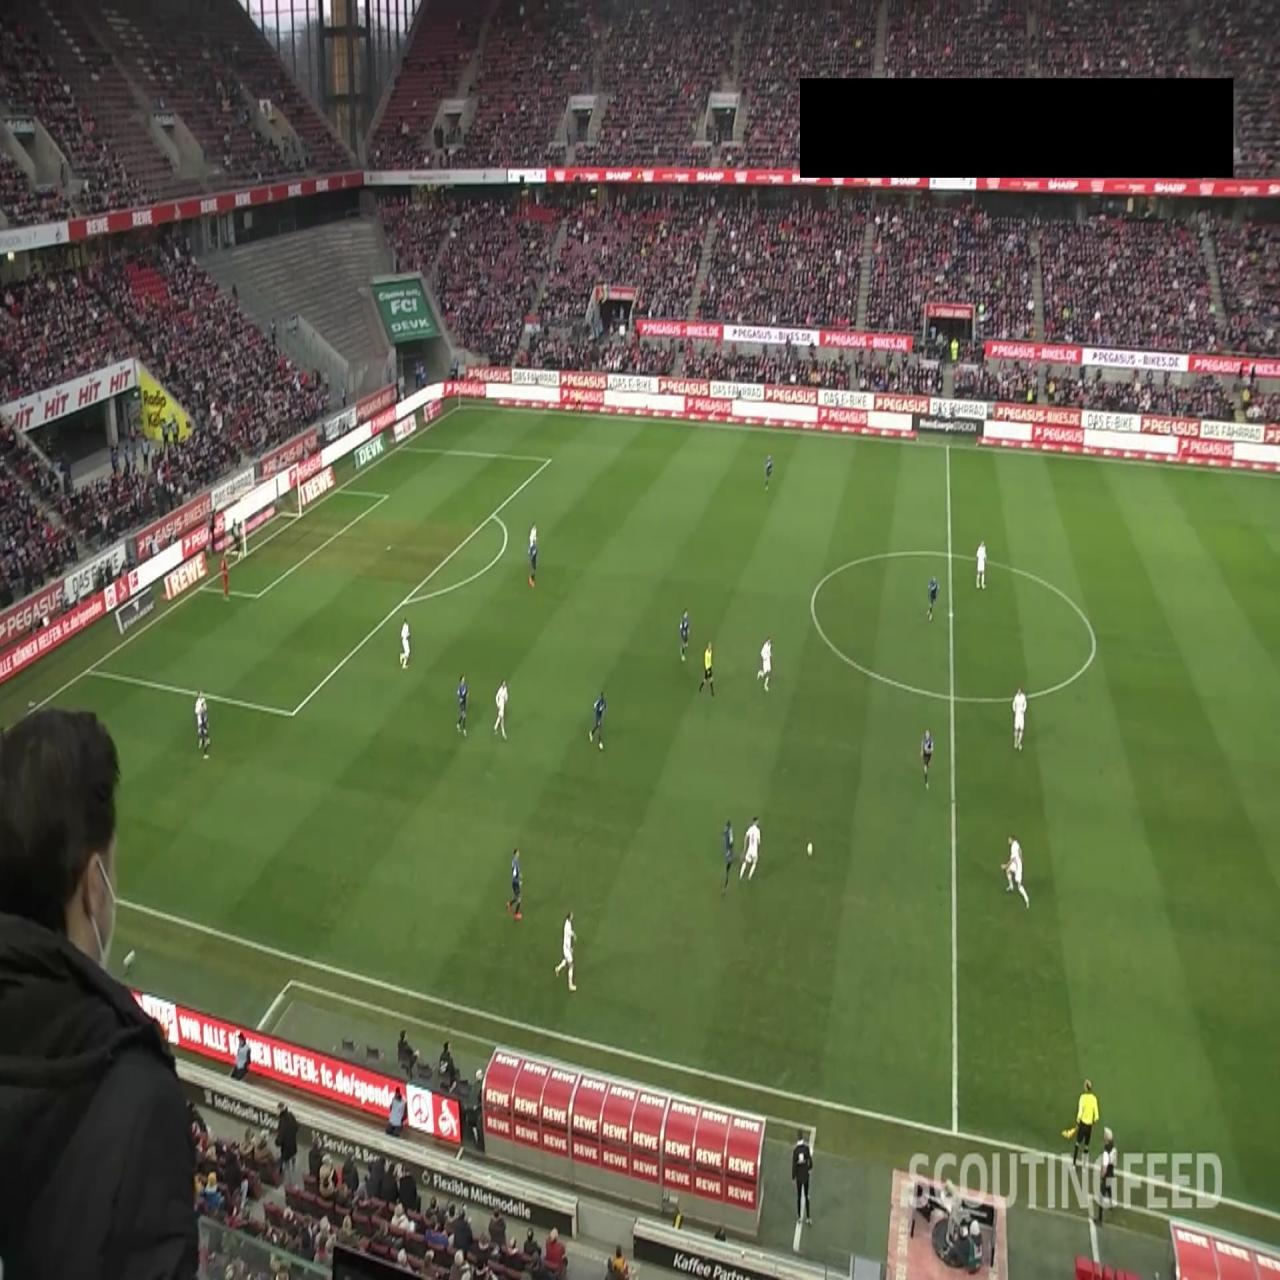ball: (807, 840, 813, 857)
goalkeeper: (221, 552, 230, 601)
player: (1001, 834, 1029, 908), (556, 910, 578, 991), (739, 815, 760, 882), (506, 846, 523, 919), (721, 819, 735, 894), (590, 691, 608, 749), (1012, 684, 1027, 751), (494, 678, 509, 741), (455, 672, 469, 737), (757, 636, 773, 691), (194, 689, 207, 750), (922, 726, 934, 790), (200, 701, 211, 760), (927, 575, 940, 622), (679, 608, 690, 661), (976, 539, 987, 590), (400, 618, 411, 668), (528, 538, 538, 586), (528, 520, 537, 565), (765, 453, 774, 492)
referee: (1060, 1078, 1099, 1173), (698, 640, 715, 697), (573, 379, 584, 417)
